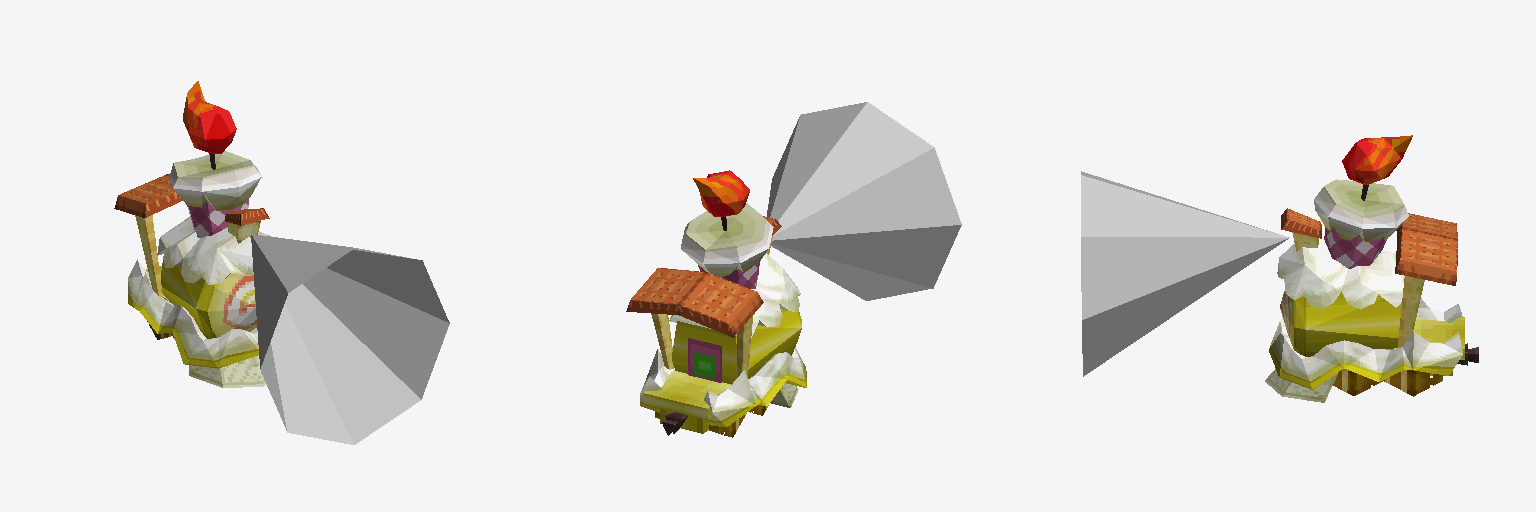
3 renders of one model, left to right at view 1: azimuth 30°, elevation 25°; view 2: azimuth 150°, elevation 25°; view 3: azimuth 270°, elevation 25°, orthographic.
Parts seen in each view (by area): view 1: polygon0, polygon2; view 2: polygon2, polygon0; view 3: polygon2, polygon0, polygon1.
Boxes of the visible parts, x1=… form: polygon0: x1=251, y1=234, x2=449, y2=444; polygon2: x1=114, y1=81, x2=271, y2=387; polygon2: x1=626, y1=170, x2=806, y2=435; polygon0: x1=767, y1=102, x2=961, y2=300; polygon2: x1=1265, y1=135, x2=1478, y2=402; polygon0: x1=1081, y1=171, x2=1289, y2=376; polygon1: x1=1333, y1=369, x2=1442, y2=396.
Size of the model in its own units: 0.3315 by 0.4179 by 0.6038.
3 materials, 2 textured.